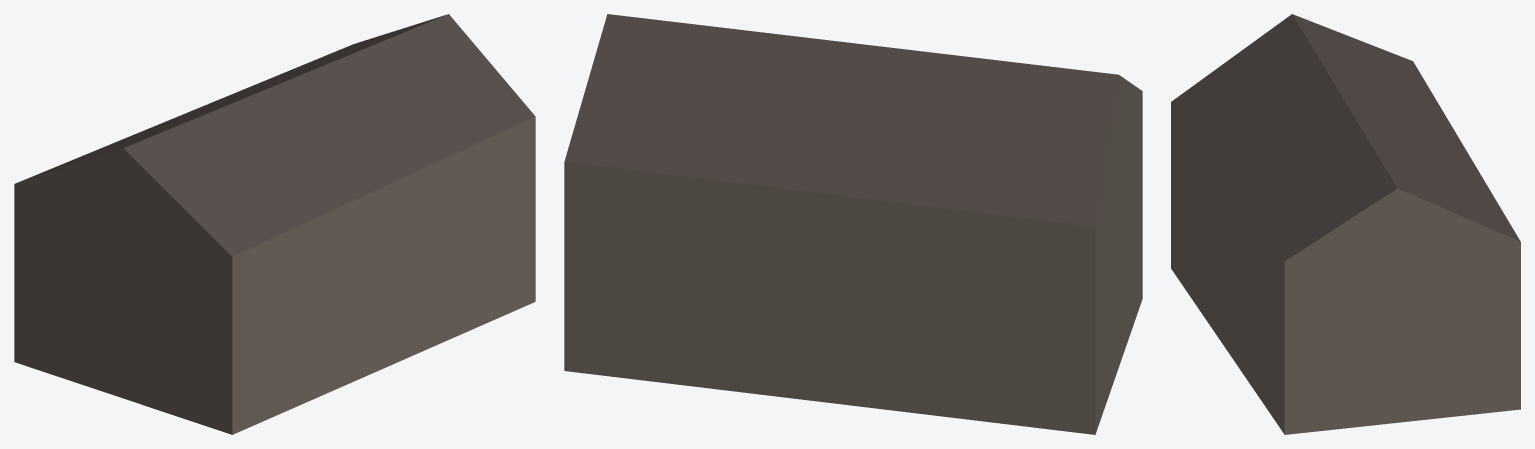
The picture shows the model from 3 angles, left to right: view 1: azimuth 30°, elevation 25°; view 2: azimuth 150°, elevation 25°; view 3: azimuth 270°, elevation 25°; orthographic projection. The views are drawn at different scales.
Visible parts, largest first — view 1: HP-w757497632; view 2: HP-w757497632; view 3: HP-w757497632.
Part boxes in pixels (bbox=[...]): HP-w757497632: bbox=[14, 14, 535, 434]; HP-w757497632: bbox=[564, 14, 1142, 434]; HP-w757497632: bbox=[1171, 14, 1520, 434].
Bounding box in the file's own units: 23.94 × 12.64 × 17.1.
